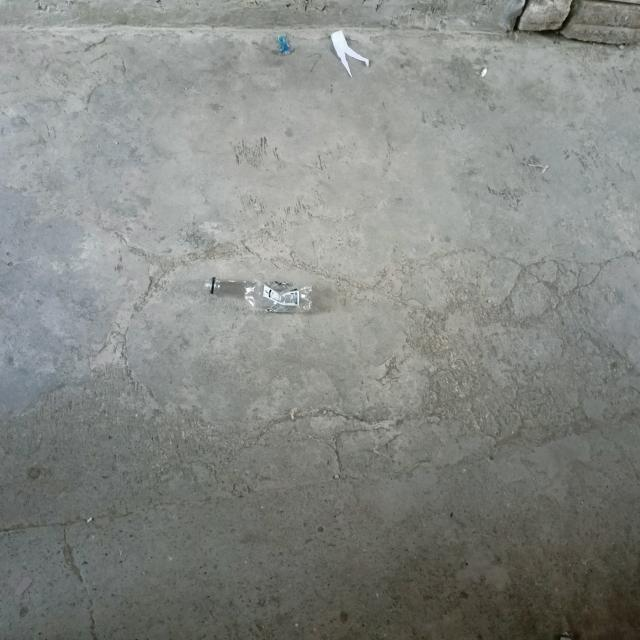Bottle: (205, 277, 312, 313)
